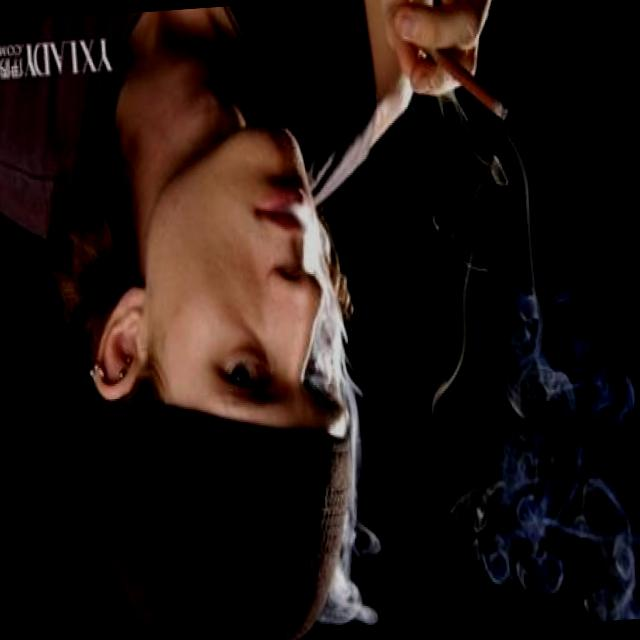smoke: (416, 28, 528, 150)
